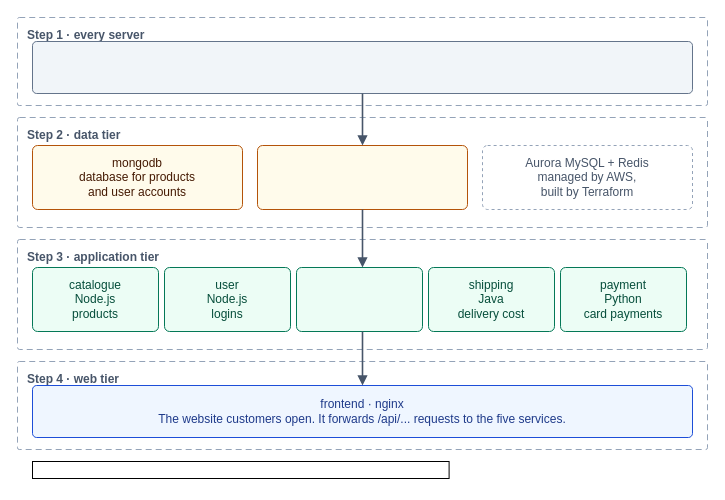
Image size: 725x500. Some labels were removed from this diagram. The shapes that lost their labels are listed below. From the top down, each one's centre as x and y in pixels, then its label:
At pixel 362 67: "Check in Is it a known component? Wait until it answers. Put it in its group.".
At pixel 362 177: "rabbitmq message queue for payments and orders".
At pixel 359 299: "cart Node.js basket".
At pixel 240 469: "Each step finishes on every server before the next one begins.".
